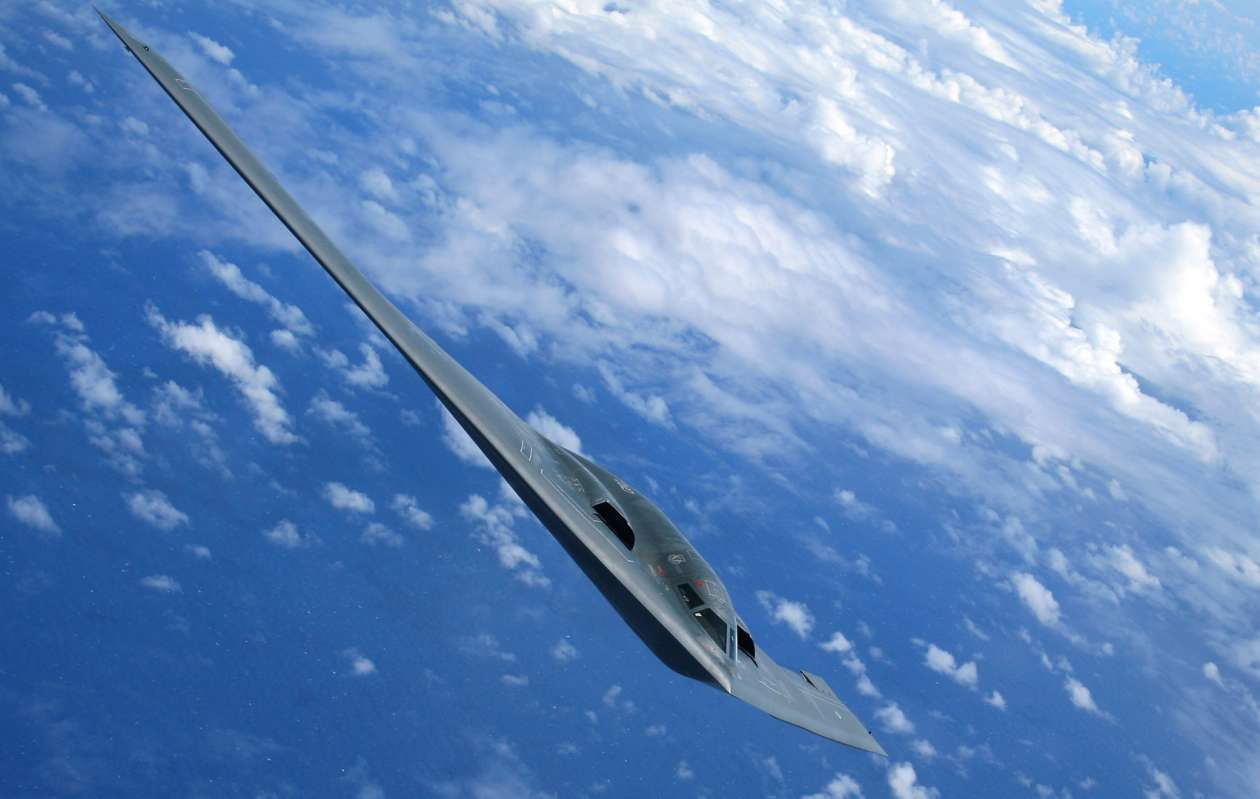B2: (91, 3, 890, 758)
